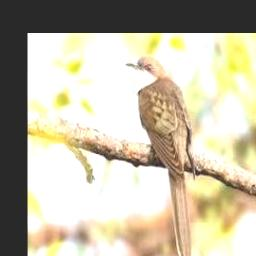Cuckoo: (125, 55, 194, 256)
